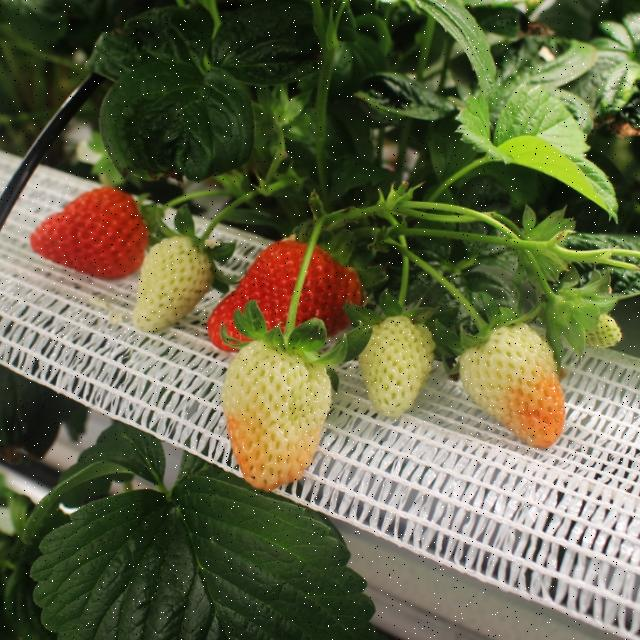Ripe Strawberry: (206, 204, 368, 354), (30, 158, 153, 283)
